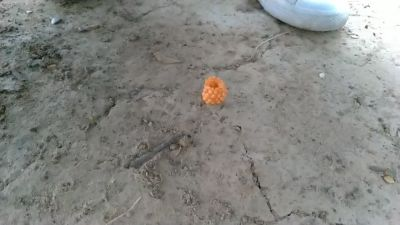eggs: (204, 75, 226, 105)
